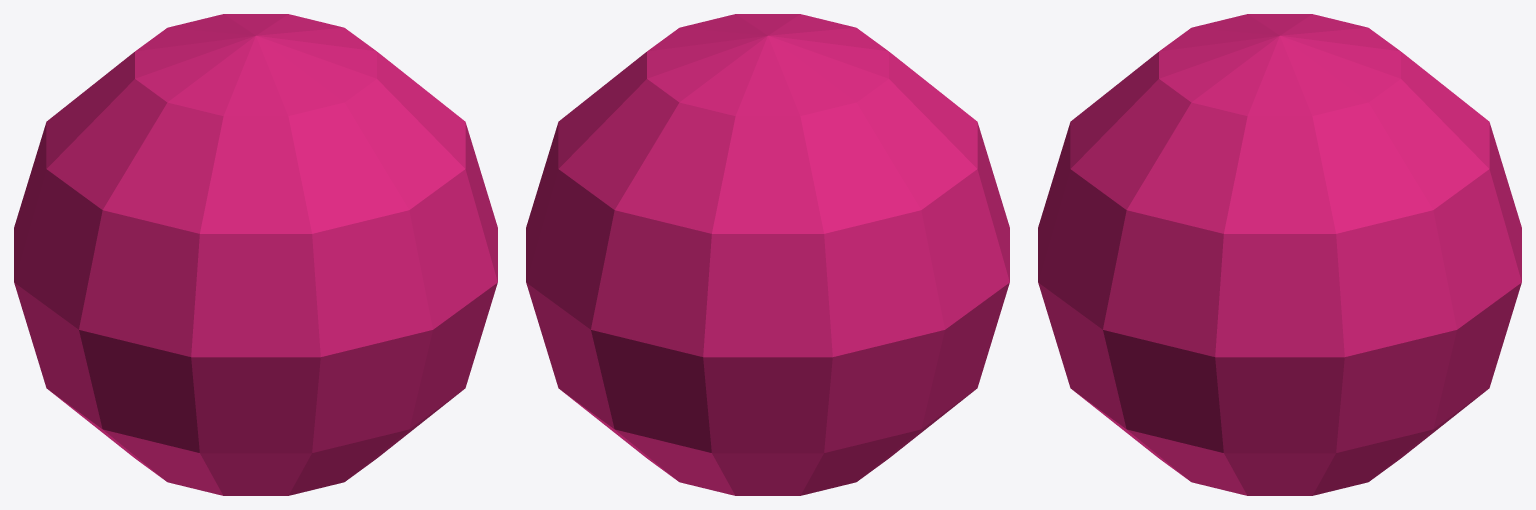
Rendered from 2025-10-04_lens-02.gltf.
3 renders of one model, left to right at view 1: azimuth 30°, elevation 25°; view 2: azimuth 150°, elevation 25°; view 3: azimuth 270°, elevation 25°, orthographic.
Visible parts, largest first — view 1: sphere; view 2: sphere; view 3: sphere.
Boxes of the visible parts, x1,y1,x2,y2 form: sphere: [14, 14, 497, 495]; sphere: [526, 14, 1009, 495]; sphere: [1038, 14, 1521, 495].
Bounding box in the file's own units: 0.375 × 0.375 × 0.375.
1 material, 1 textured.
